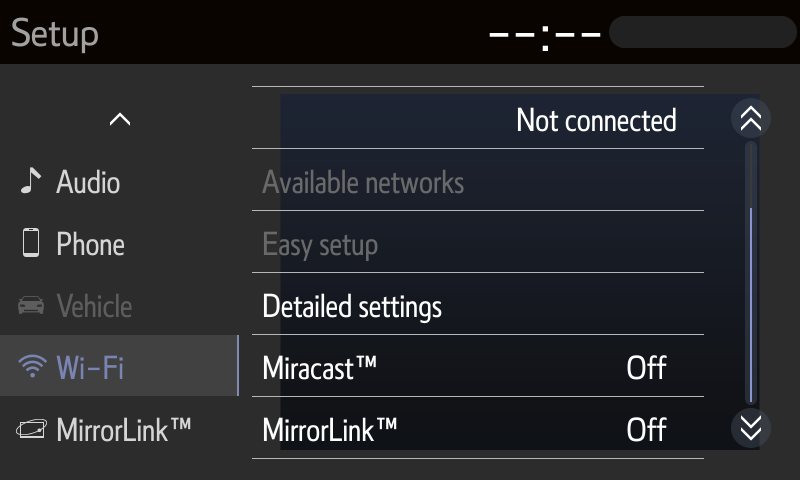touchPart: (252, 326, 707, 402), (249, 81, 710, 155), (249, 267, 710, 341), (250, 391, 706, 462), (8, 413, 200, 444), (15, 218, 141, 260), (16, 158, 129, 200), (730, 403, 778, 450), (732, 99, 773, 139), (103, 105, 146, 135)
untouchPart: (248, 206, 710, 278), (248, 146, 709, 216), (470, 5, 793, 54), (1, 332, 240, 398), (13, 285, 136, 325), (12, 10, 108, 57)
